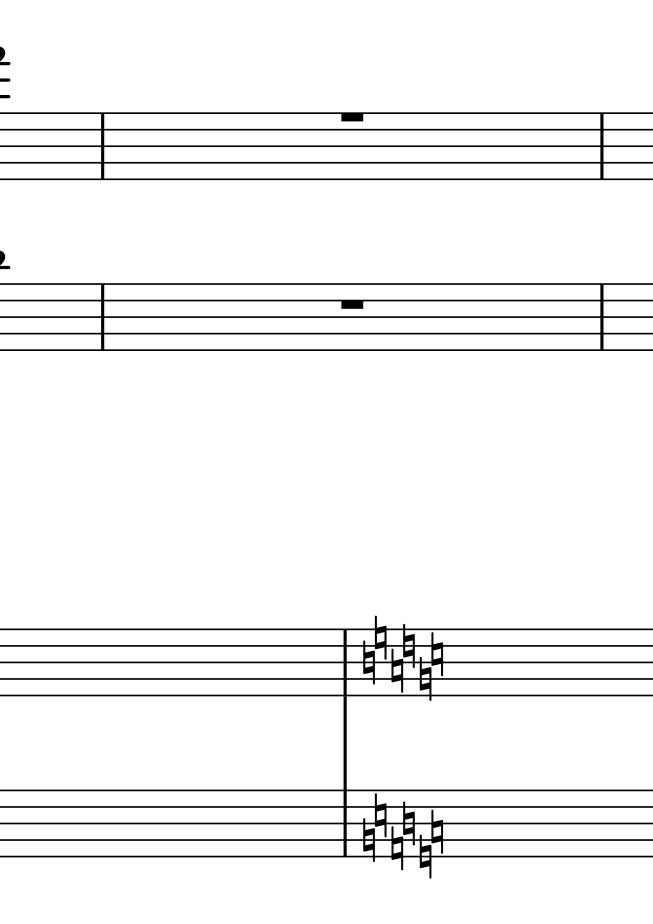Rests1: (335, 295, 368, 313), (336, 108, 366, 123)
Single_barline: (337, 790, 354, 855), (337, 628, 353, 695), (594, 285, 610, 350), (95, 114, 110, 179), (95, 286, 110, 349), (595, 114, 609, 180)
